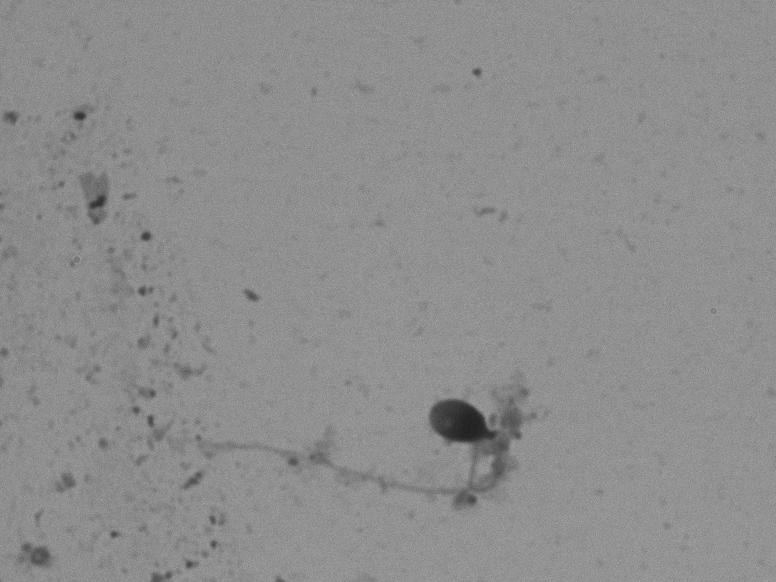Abnormal: (200, 352, 583, 519)
